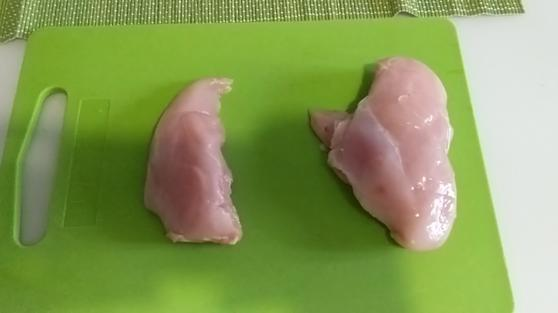chicken_fillet: (305, 53, 462, 255), (138, 70, 250, 253)
